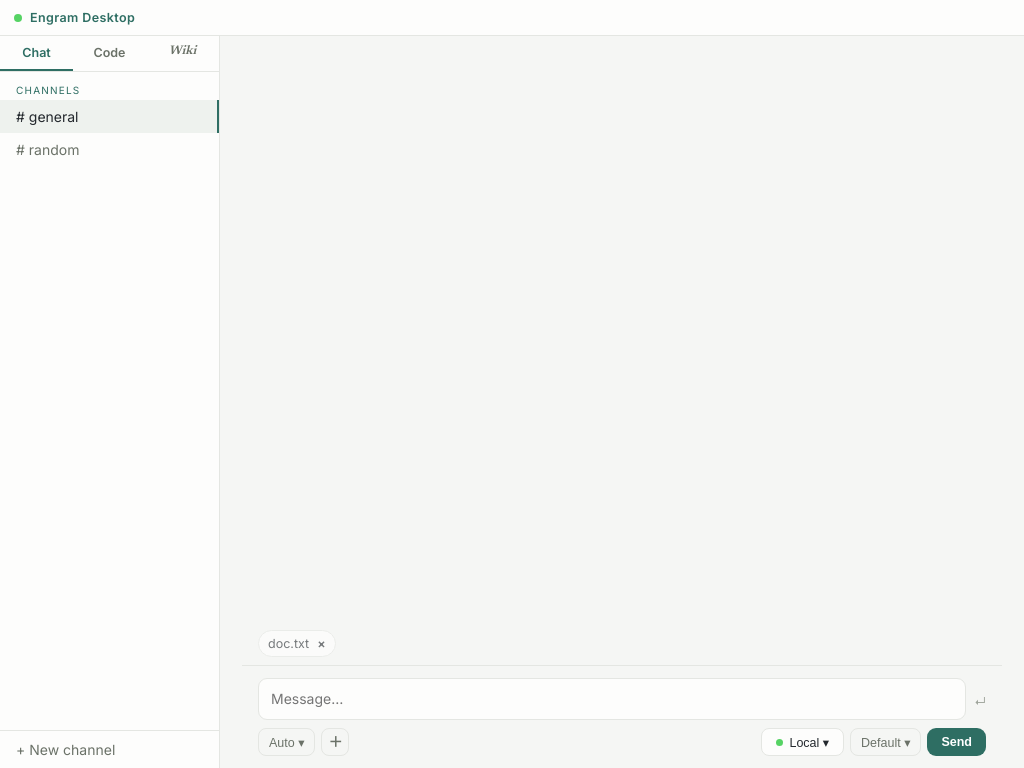
Test case: 채널을 바꾸면 전송 전 칩이 비워지고 안내가 뜬다(바인딩 불일치 방지)
Expected: the text "doc.txt" is shown, [268,636,309,651]
Click the text "# random" at (48, 150), box [16,141,79,158]
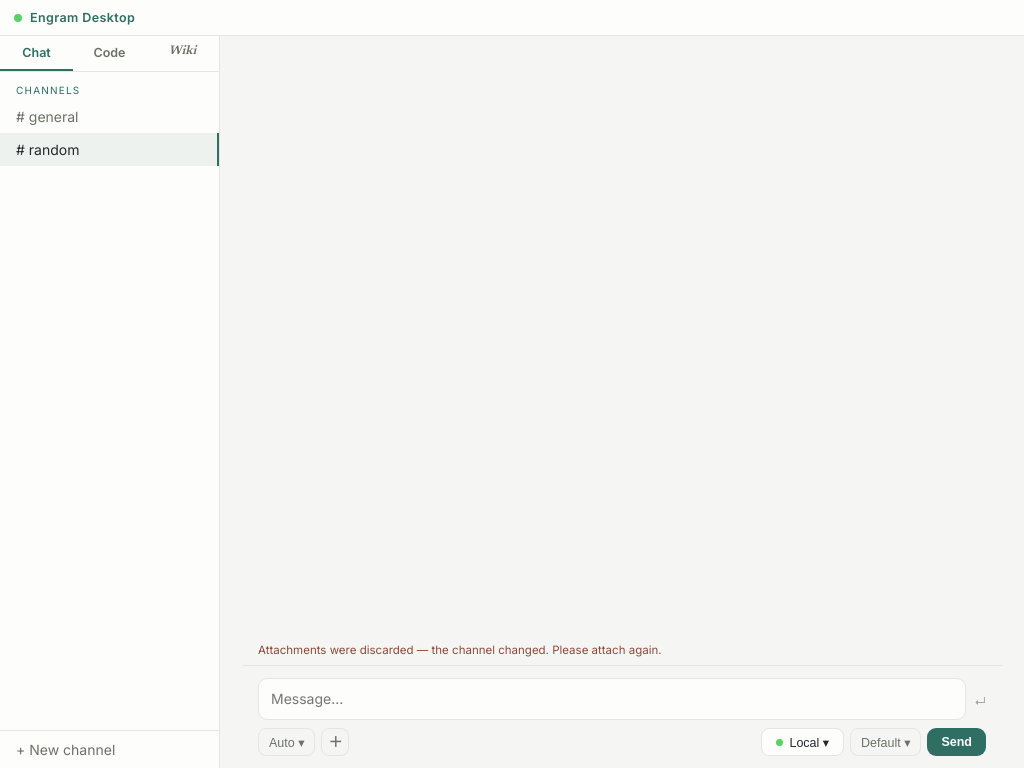
Result: the text "doc.txt" is gone
